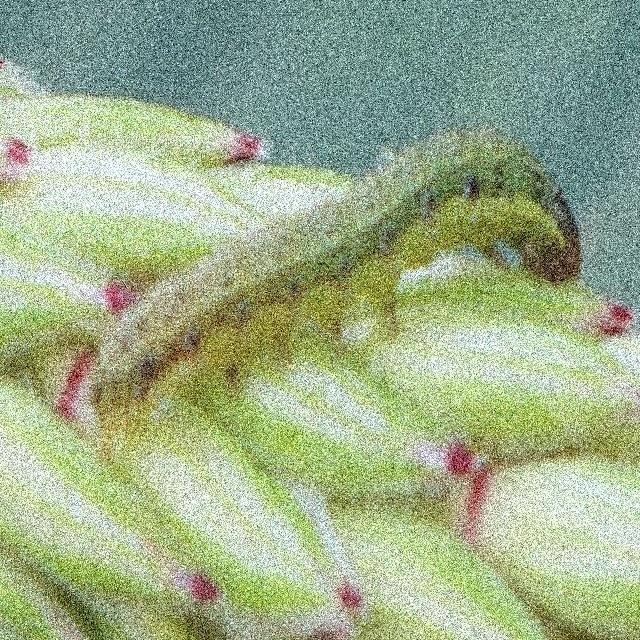gusano_cogollero: (89, 120, 583, 443)
